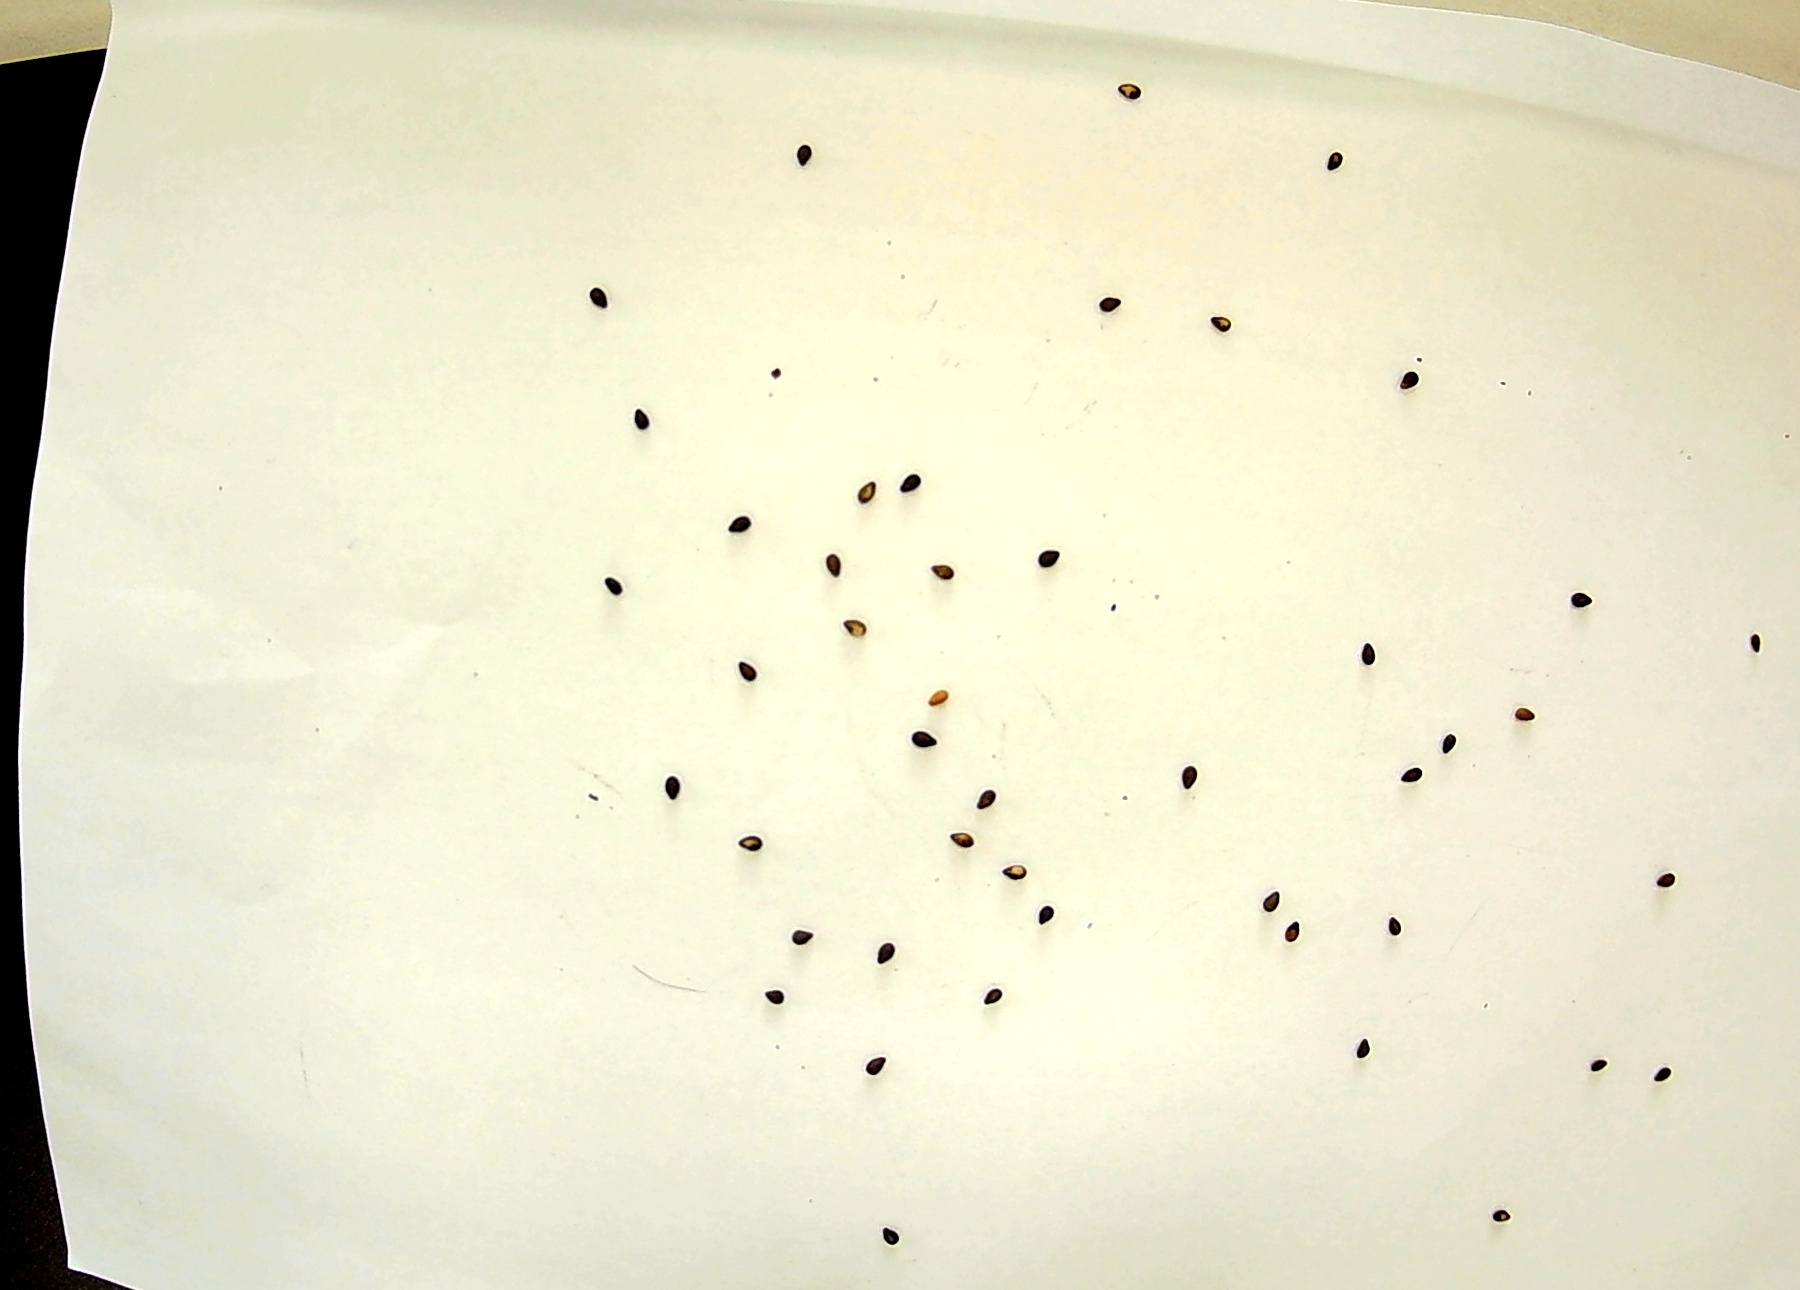sesami: (1014, 898, 1063, 933), (1256, 882, 1305, 917), (940, 826, 989, 860), (987, 856, 1035, 889), (864, 934, 913, 967), (781, 917, 830, 951), (744, 986, 793, 1019), (841, 1048, 890, 1082), (862, 1224, 911, 1258), (964, 984, 1013, 1018), (1273, 916, 1321, 949), (1370, 910, 1419, 944), (1342, 1033, 1391, 1067), (1475, 1210, 1524, 1244), (1573, 1050, 1621, 1083), (1637, 1061, 1686, 1095), (652, 773, 696, 808), (961, 778, 1006, 813), (853, 473, 885, 519), (815, 542, 847, 588), (726, 505, 758, 551), (599, 561, 631, 607), (734, 651, 766, 697), (837, 599, 869, 645), (1568, 565, 1593, 623), (1395, 349, 1419, 406), (1740, 618, 1764, 676), (1091, 290, 1127, 327), (899, 466, 936, 501), (620, 398, 650, 440), (1112, 70, 1148, 105), (1314, 148, 1351, 183), (1190, 309, 1227, 343), (583, 281, 613, 322), (900, 727, 942, 757), (915, 679, 959, 706), (1021, 543, 1063, 571), (913, 563, 954, 591), (730, 833, 772, 861), (1178, 752, 1201, 799), (1358, 634, 1381, 680), (1649, 867, 1680, 900), (1400, 759, 1430, 793), (1508, 704, 1538, 739), (793, 144, 823, 176), (1113, 75, 1144, 107), (1433, 732, 1462, 765)
